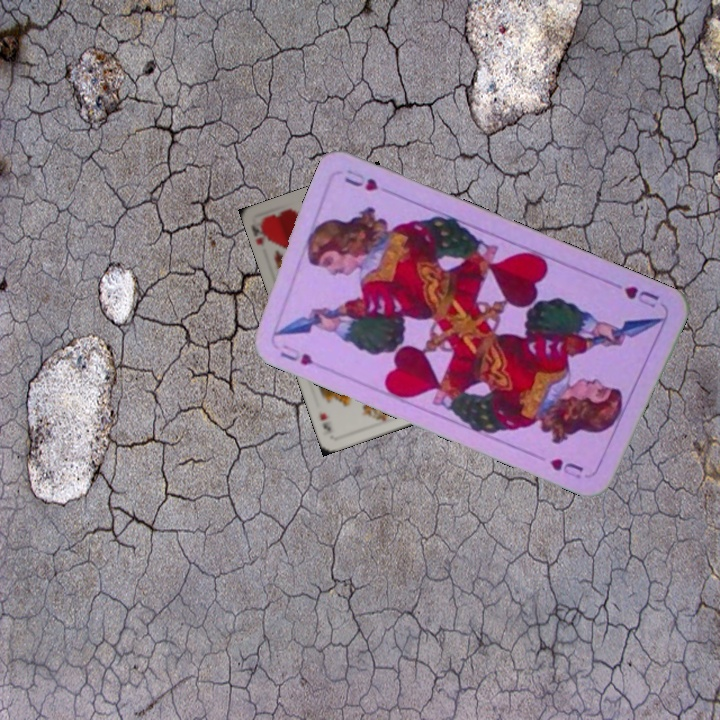HK: (247, 221, 274, 248)
HU: (620, 282, 662, 311), (276, 347, 316, 368)
